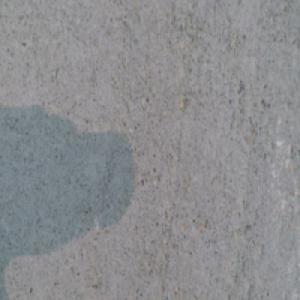Washer: (94, 286, 116, 300)
